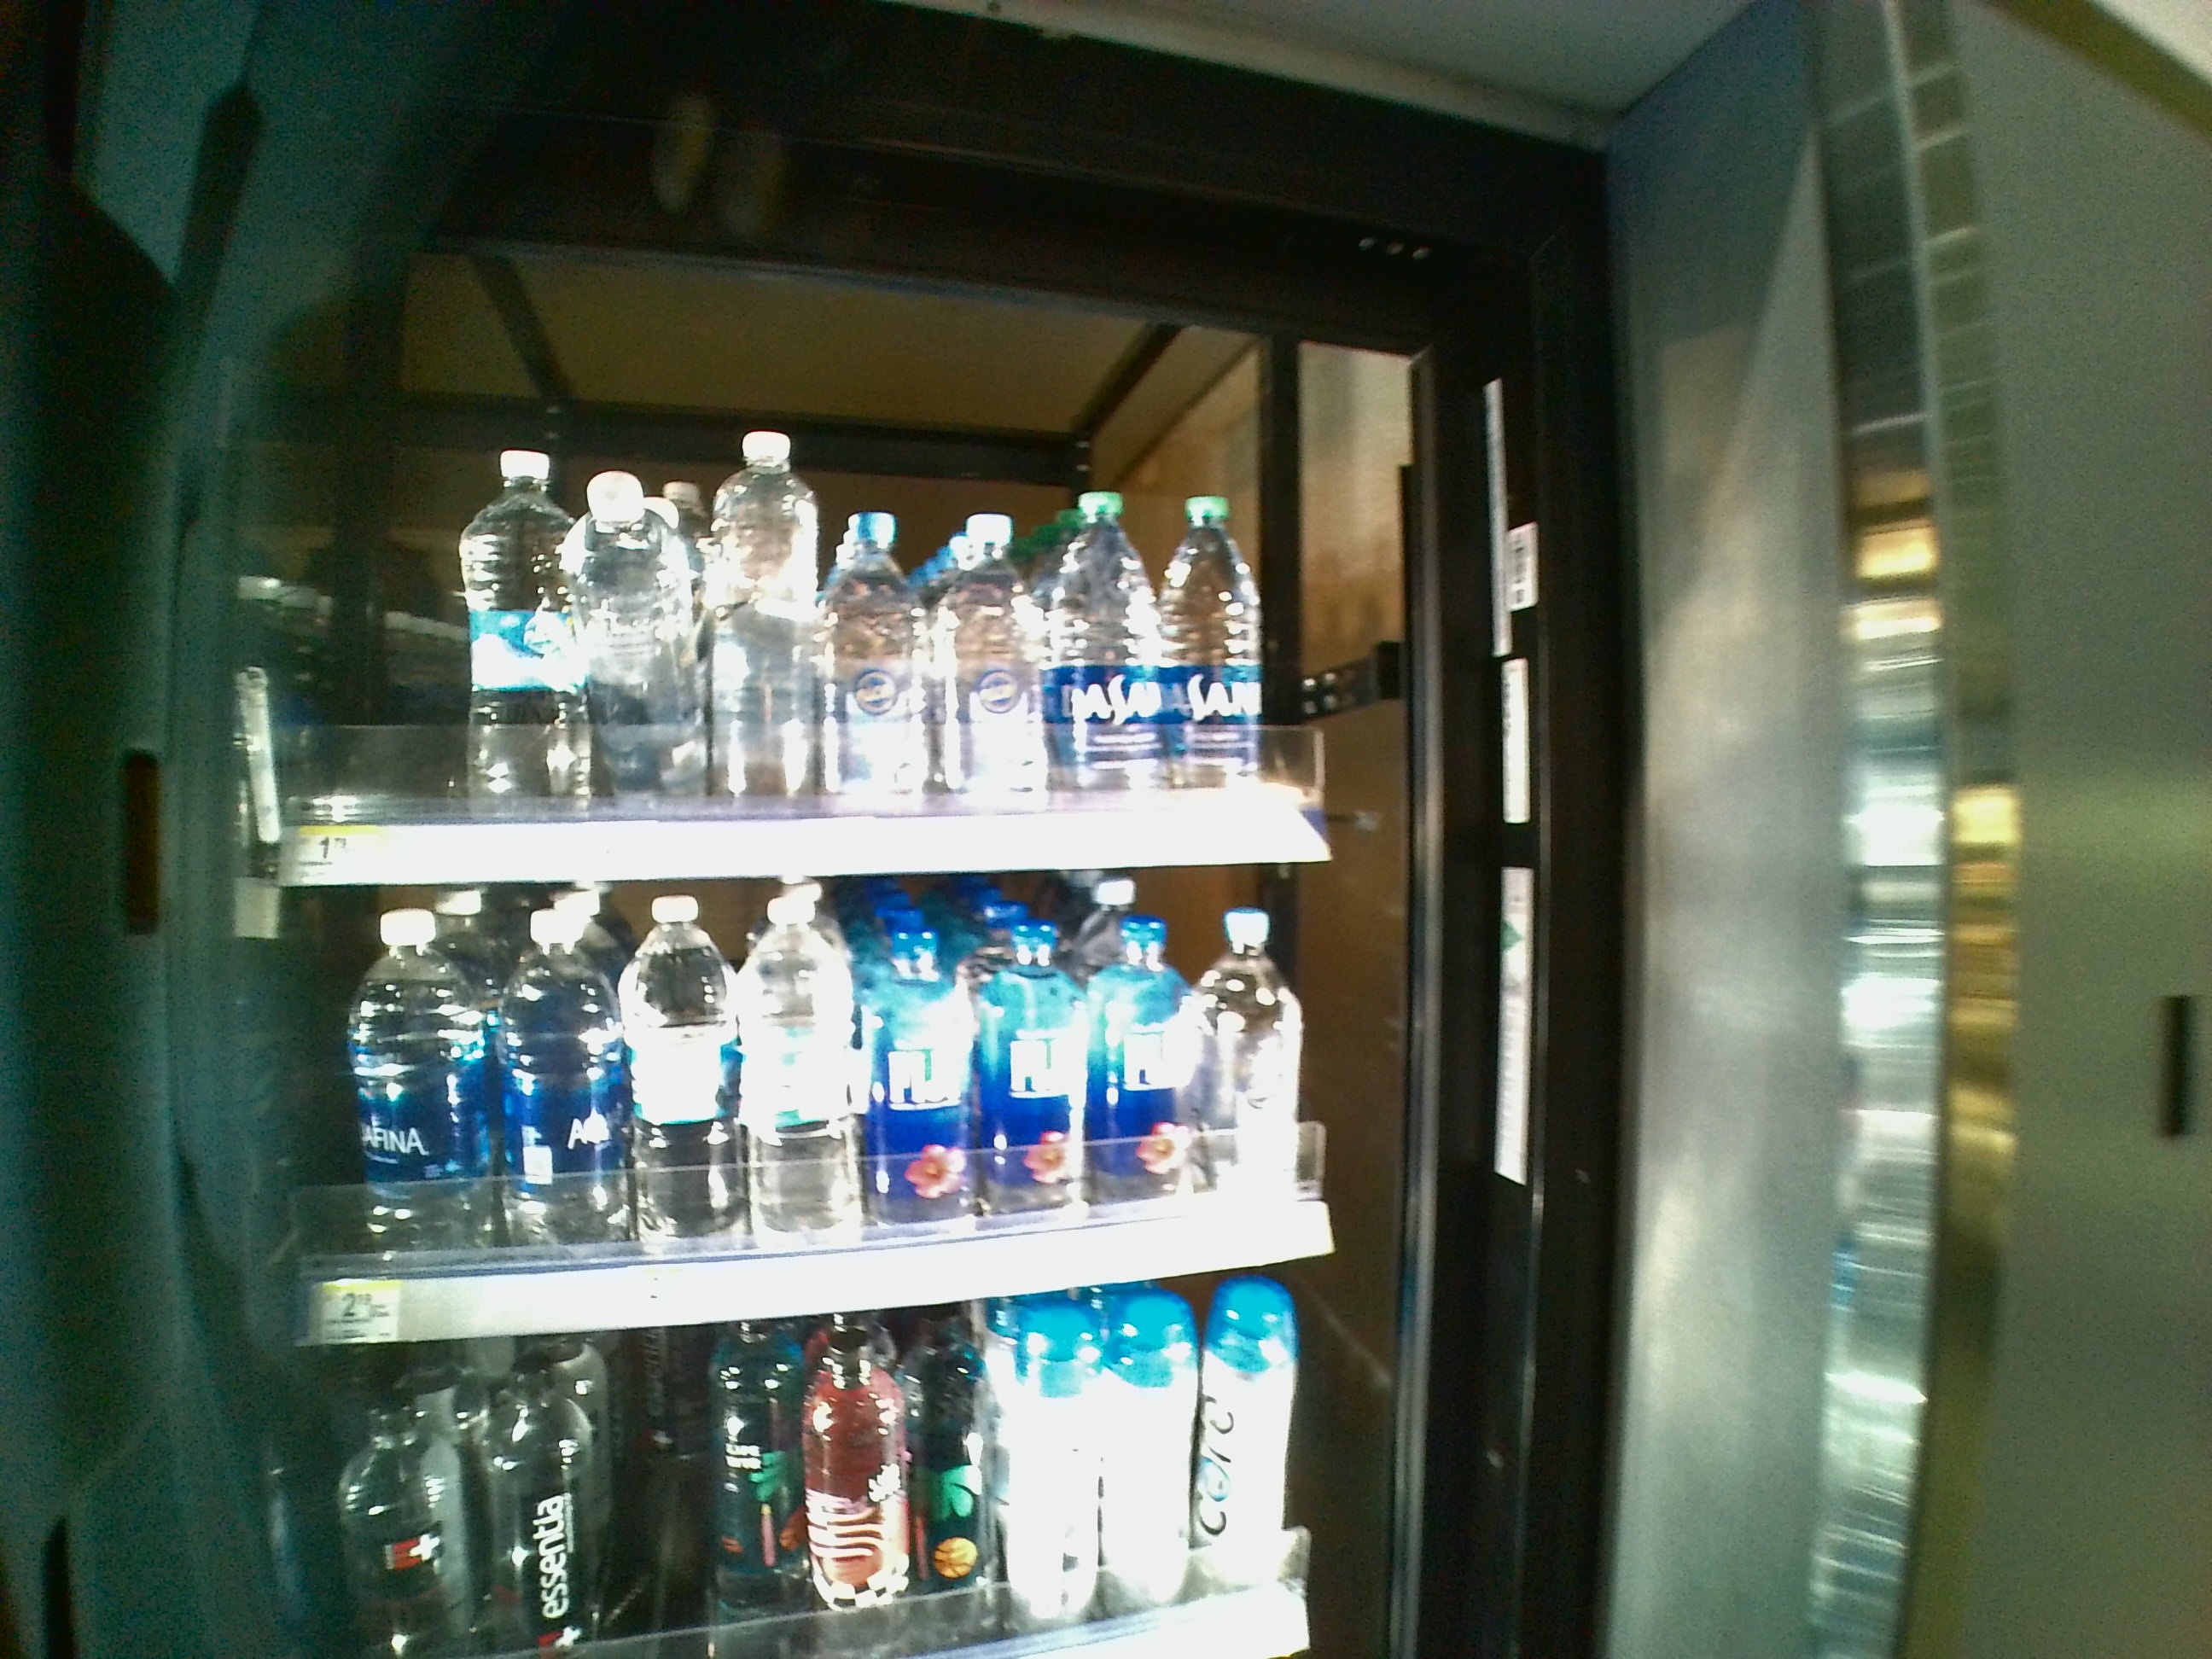shelf: (221, 382, 1379, 882), (223, 887, 1404, 1338)
